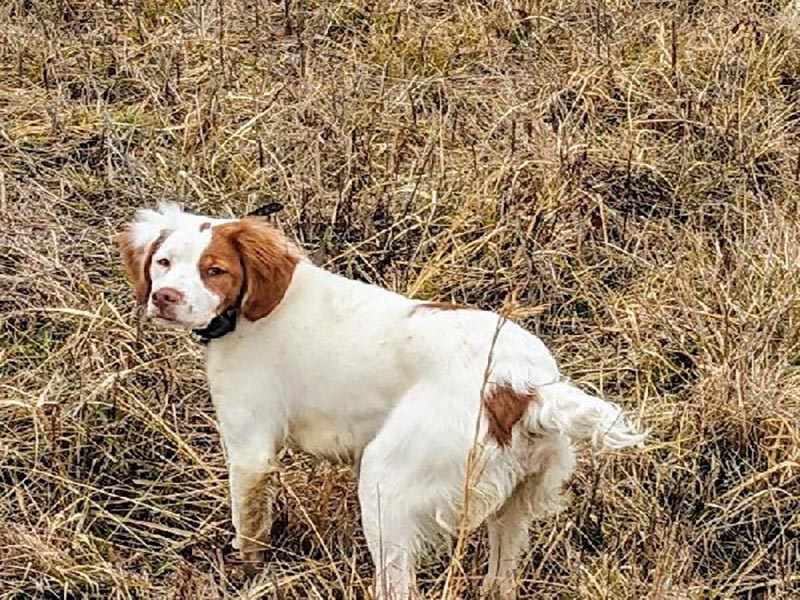cane da caccia: (121, 203, 639, 593)
